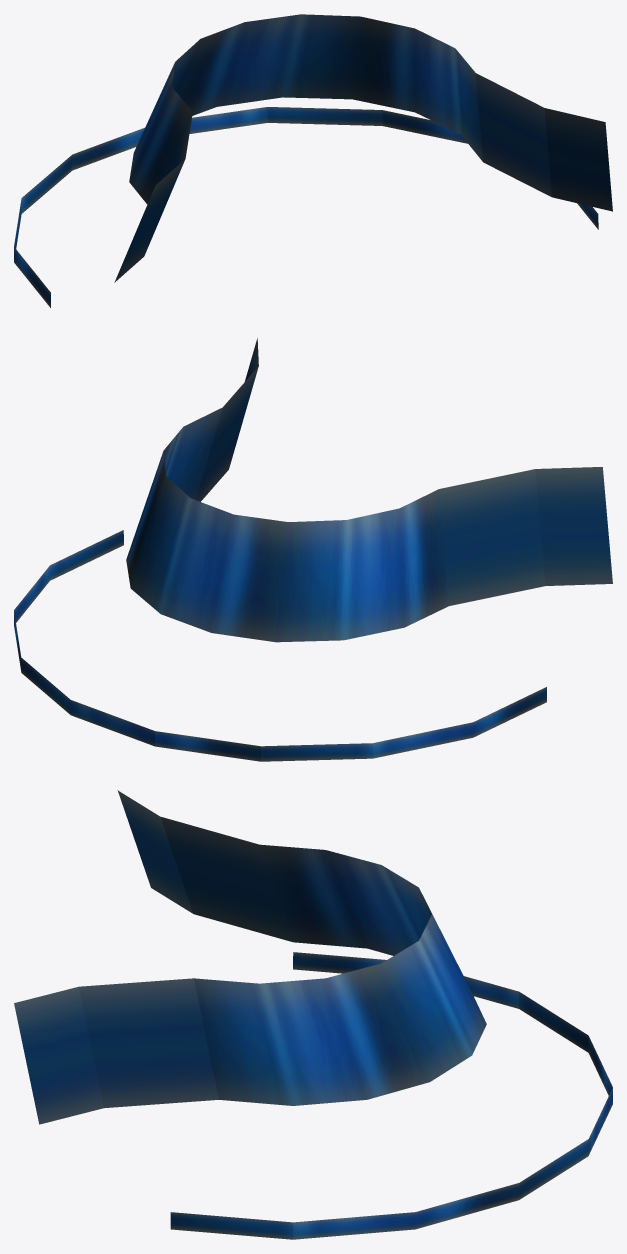
File: ts_zjmobj007.FBX
3 renders of one model, top to bottom at view 1: azimuth 30°, elevation 25°; view 2: azimuth 150°, elevation 25°; view 3: azimuth 270°, elevation 25°, orthographic. The views are drawn at different scales.
Visible parts, largest first — view 1: ts_zjmobj007; view 2: ts_zjmobj007; view 3: ts_zjmobj007.
Boxes of the visible parts, x1,y1,x2,y2 form: ts_zjmobj007: (14,14,612,307); ts_zjmobj007: (14,338,612,761); ts_zjmobj007: (14,790,612,1239).
Size of the model in its own units: 31.01 by 10.21 by 28.91.
